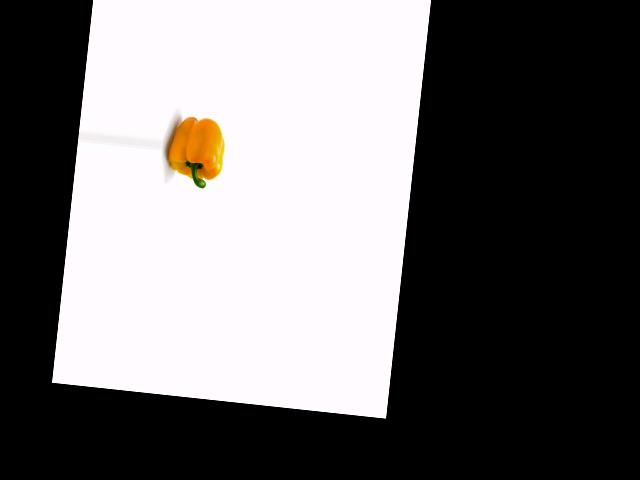bell_pepper: (165, 112, 230, 196)
